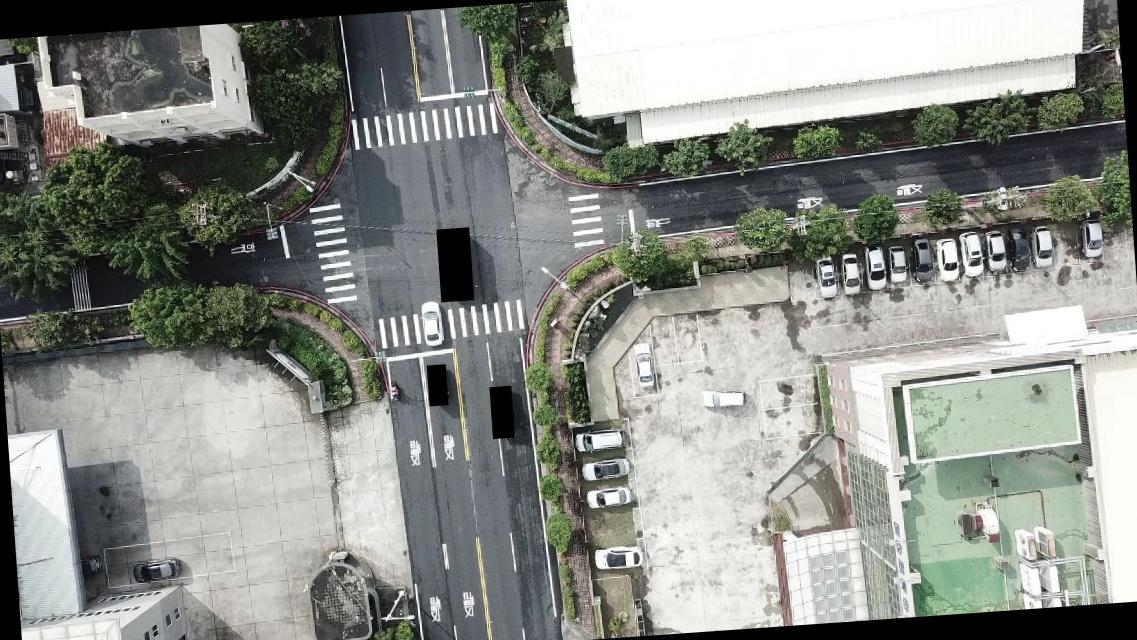vehicle: (131, 558, 179, 584), (573, 428, 622, 453), (592, 546, 640, 571), (579, 458, 629, 482), (862, 245, 887, 292), (1006, 227, 1032, 272), (960, 230, 984, 278), (1028, 226, 1054, 270), (1078, 218, 1105, 260), (910, 236, 933, 284), (936, 238, 960, 283), (419, 301, 442, 347), (585, 486, 630, 509), (815, 253, 837, 300), (984, 228, 1006, 274), (700, 388, 744, 410), (633, 343, 654, 388), (841, 252, 862, 294), (886, 244, 908, 284), (78, 554, 100, 576)
